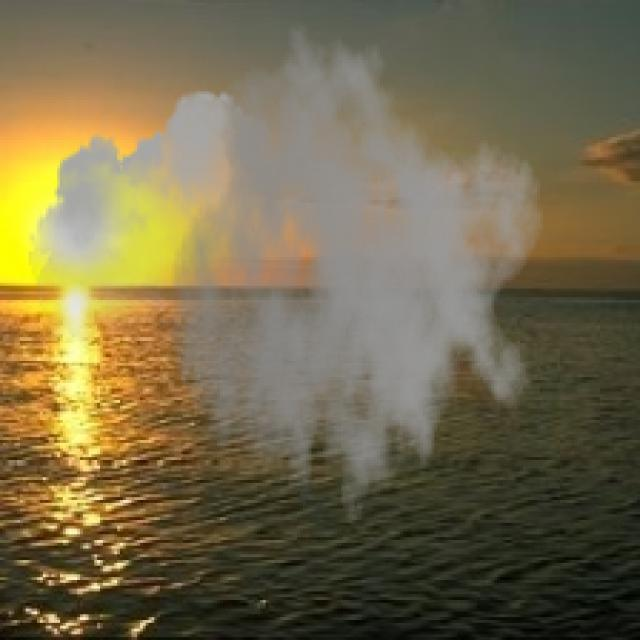Smoke: (28, 22, 546, 552)
